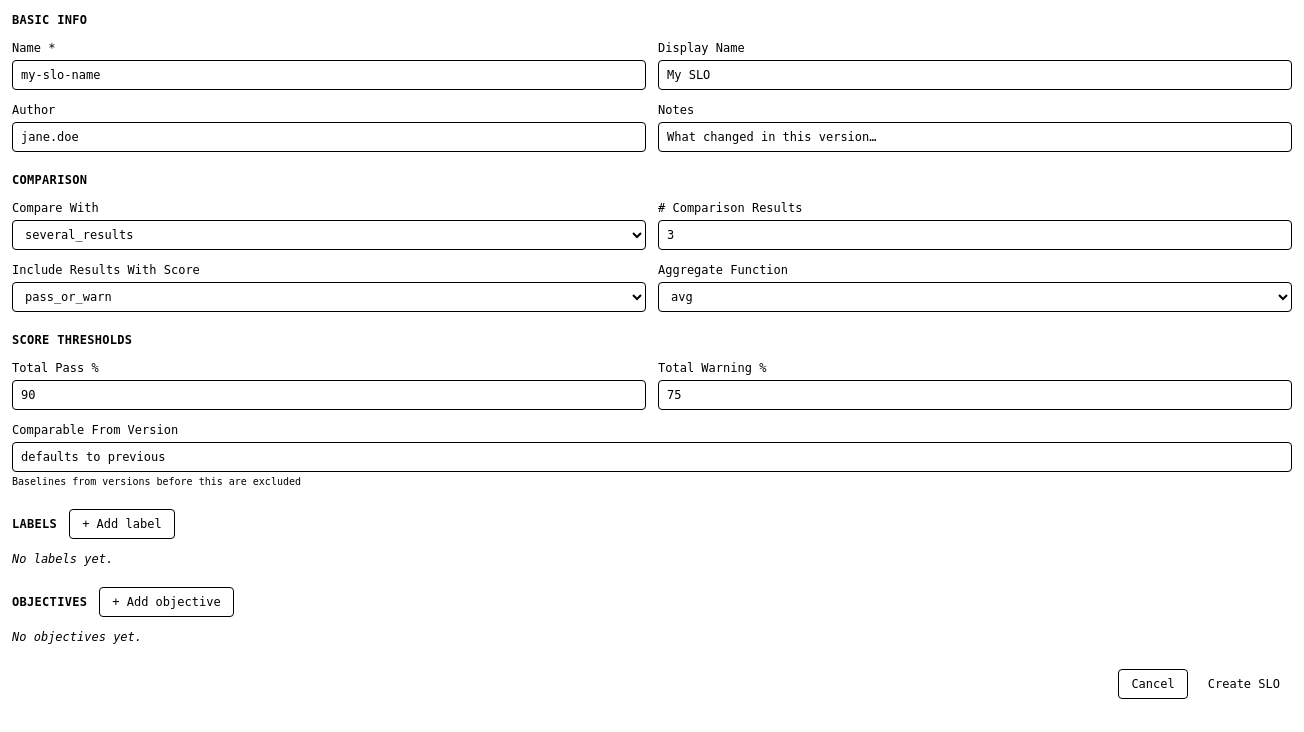
Test case: SloCreateForm › shows validation error for invalid name format
Type "Invalid Name!" into the field with placeholder "my-slo-name" at (329, 75), box [12,60,646,90]
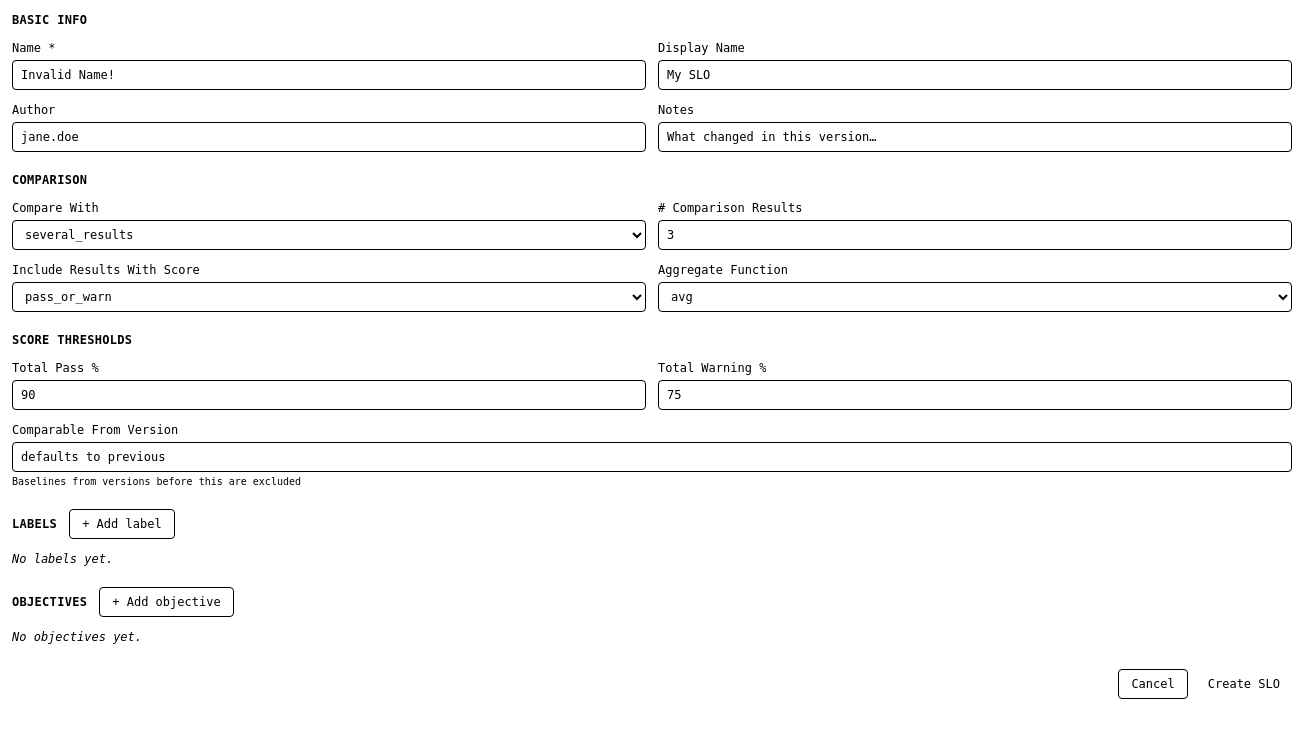
Click the button "Create SLO" at (1244, 684), box [1196,669,1292,699]
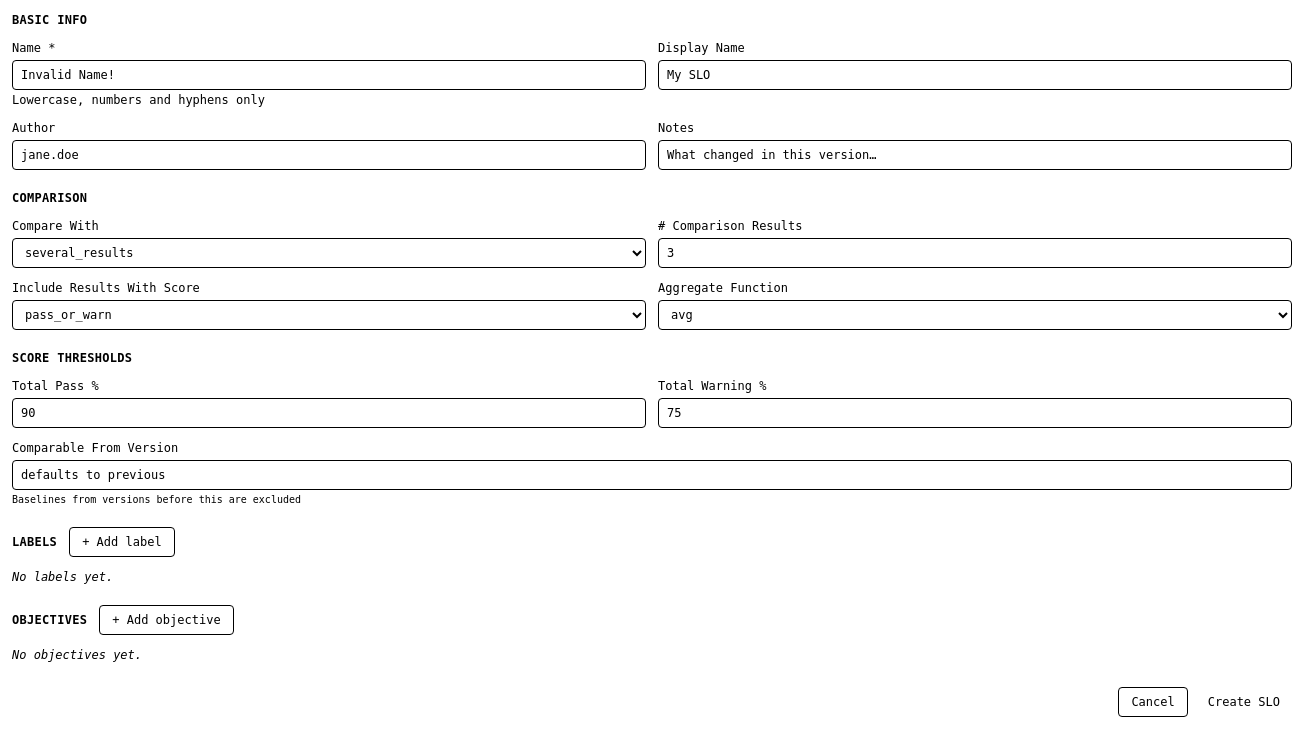
Now the text "Lowercase, numbers and hyphens only" is shown, box [12,93,265,107]
